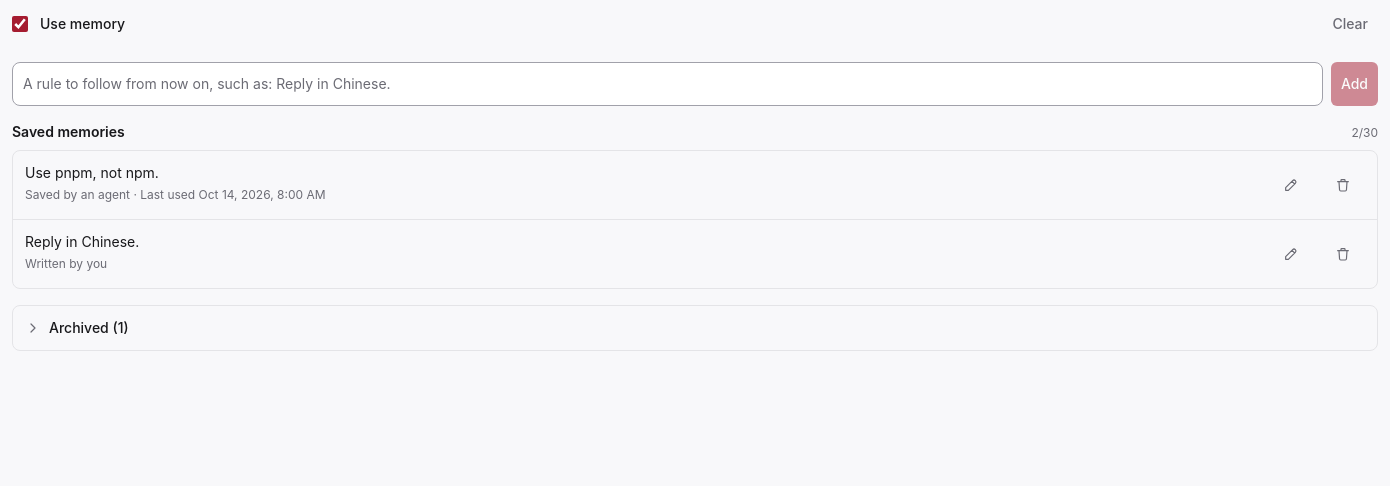
Test: one scope of durable memories › edits a memory at the version shown and keeps the draft when it changed meanwhile
Click the button named "Edit" in the row of "· Last used Oct 14, 2026, 8:00 AM" at (1291, 185), box [1269,163,1313,207]
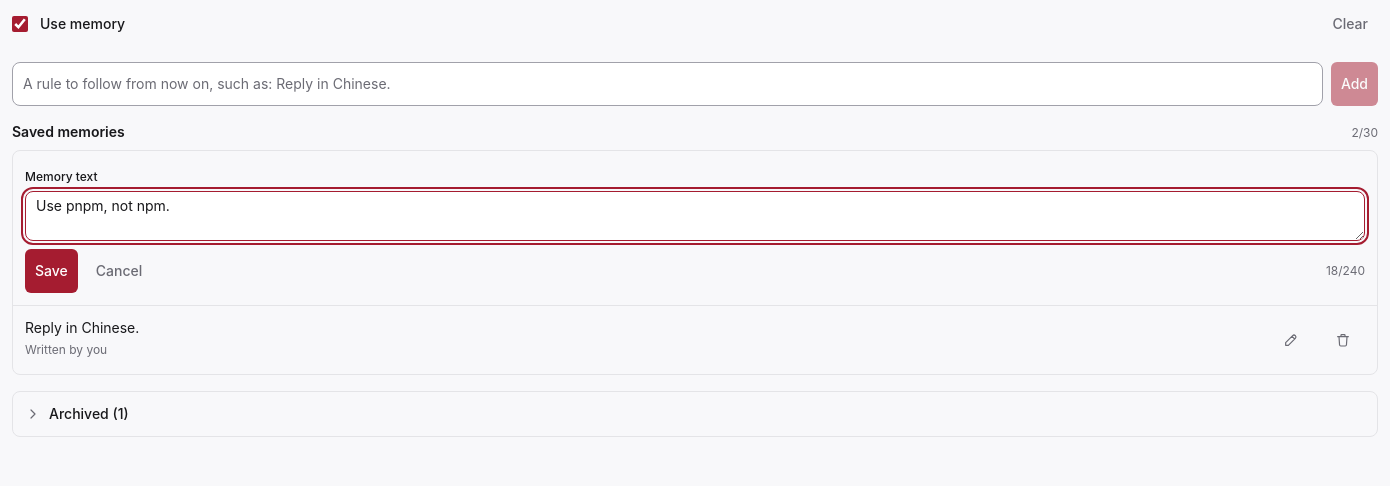
Replace the text in the text box labelled "Memory text" with "Use yarn." at (695, 216), box [25,191,1365,241]
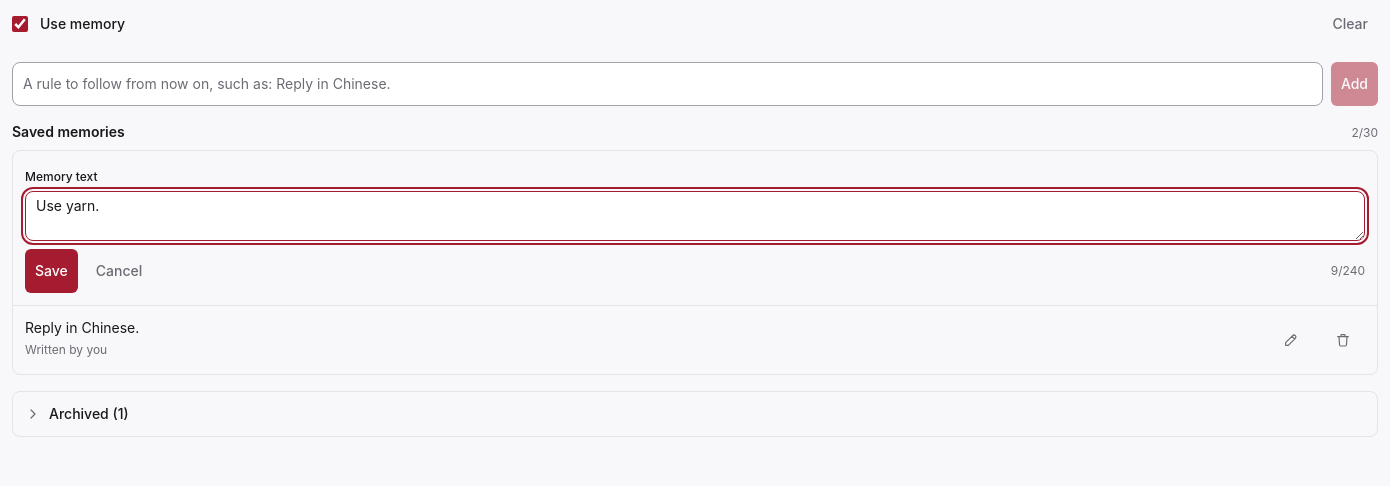
Click the button "Save" at (51, 271), box [25,249,78,293]
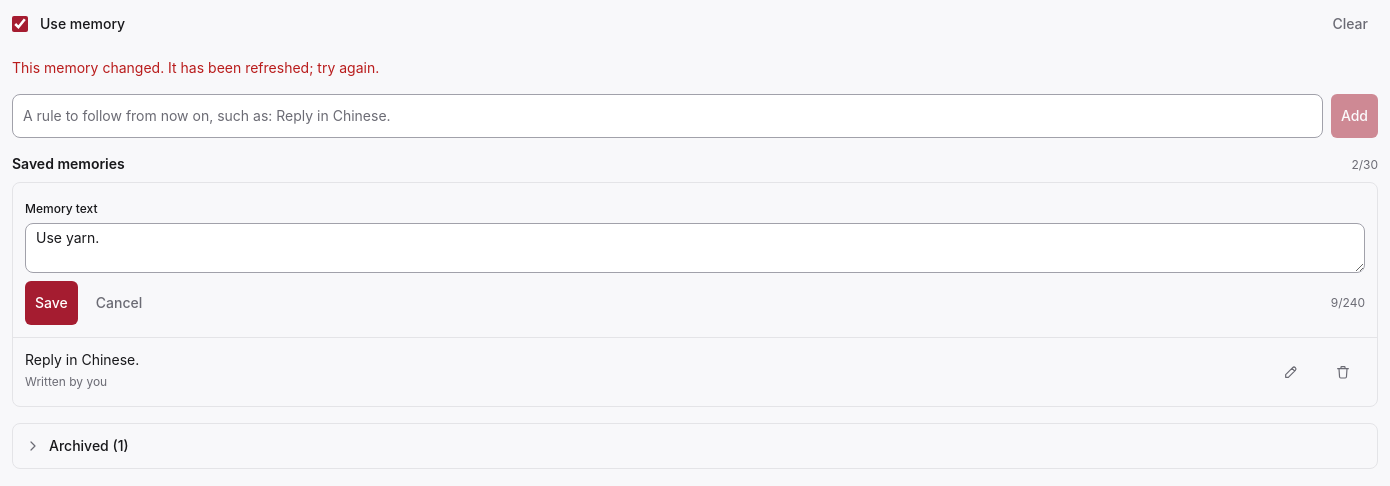
Expected: the message shows "This memory changed", [12,59,379,76]
Click the button "Save" at (51, 303), box [25,281,78,325]
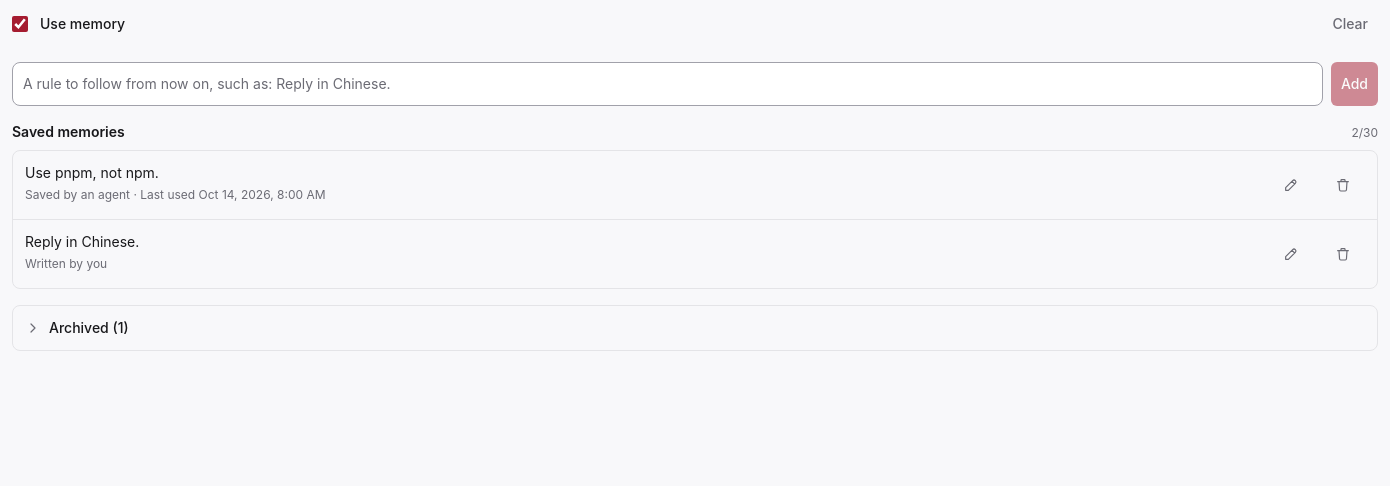
Expected: the label "Memory text" is gone
